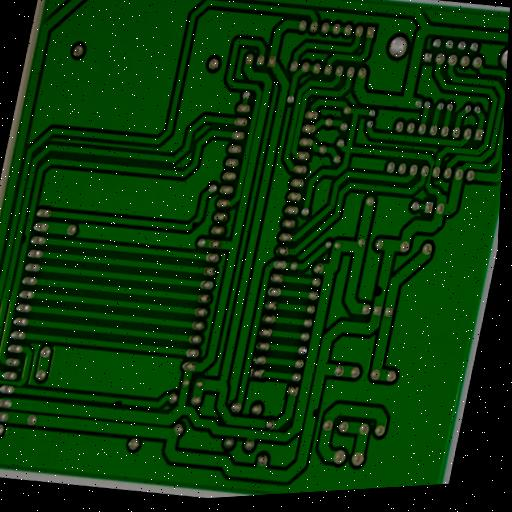mouse_bite: (306, 402, 321, 423), (371, 281, 385, 303), (185, 215, 202, 233), (18, 228, 31, 249), (109, 394, 126, 410)
